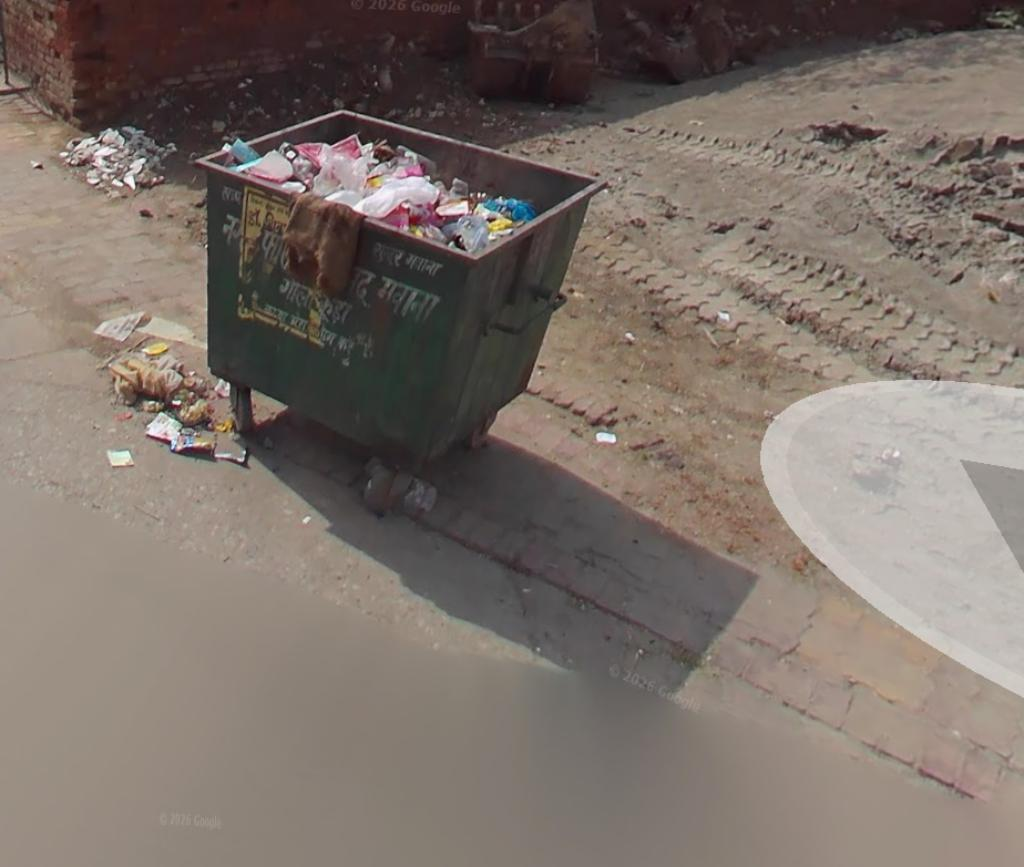dustbin: (182, 92, 646, 522)
